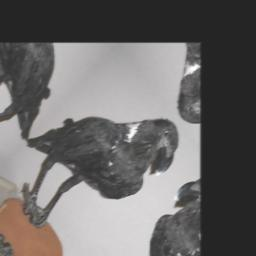Crow: (0, 47, 192, 256)
